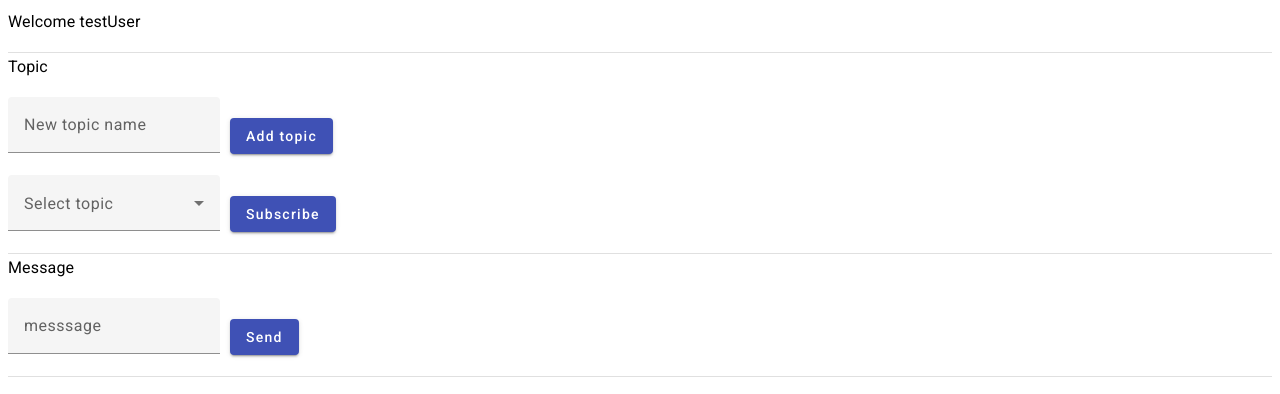
Test case: messaging template spec › Should notify when adding empty topic
Click the button with id "add-topic-button": x=282, y=136 [230,118,333,154]
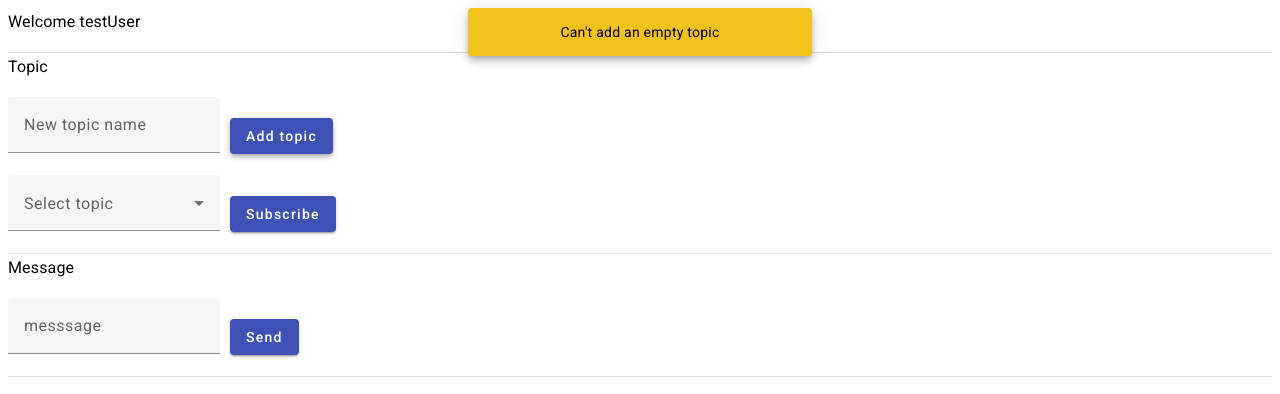
Now the text "Can't add an empty topic" is shown, box [560,24,720,40]
